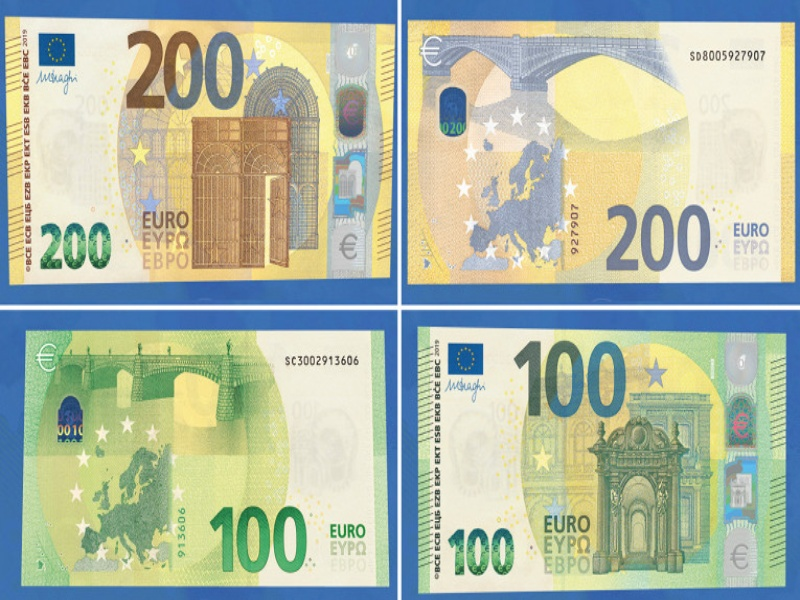cash: (4, 15, 394, 283), (407, 20, 794, 283), (416, 327, 788, 589), (19, 330, 390, 587)
